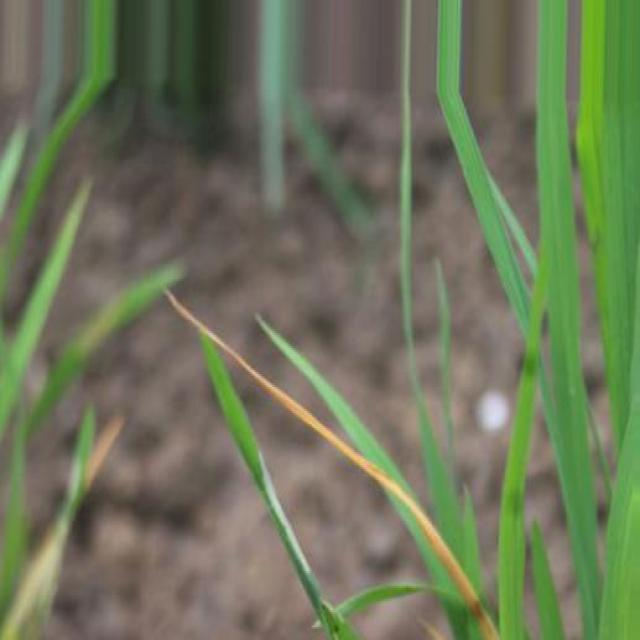Rice Tungro: (166, 293, 499, 639)
